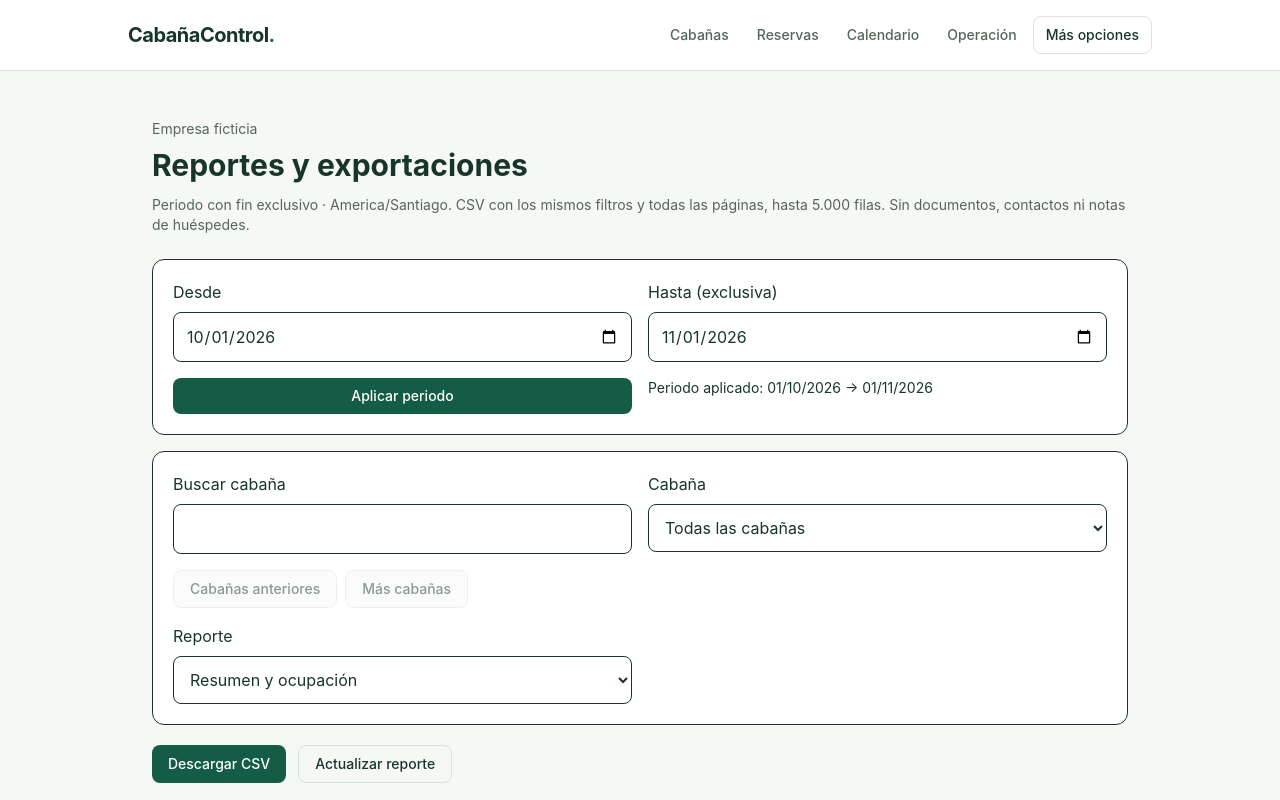
Test: staff consulta canceladas y cambia de filtro conservando el periodo aplicado
Expected: the heading "Reportes y exportaciones" is shown, [152,147,528,183]
Select "Reservas por fecha de entrada" in the dropdown labelled "Reporte". click: (402, 680)
box: [173,656,632,704]
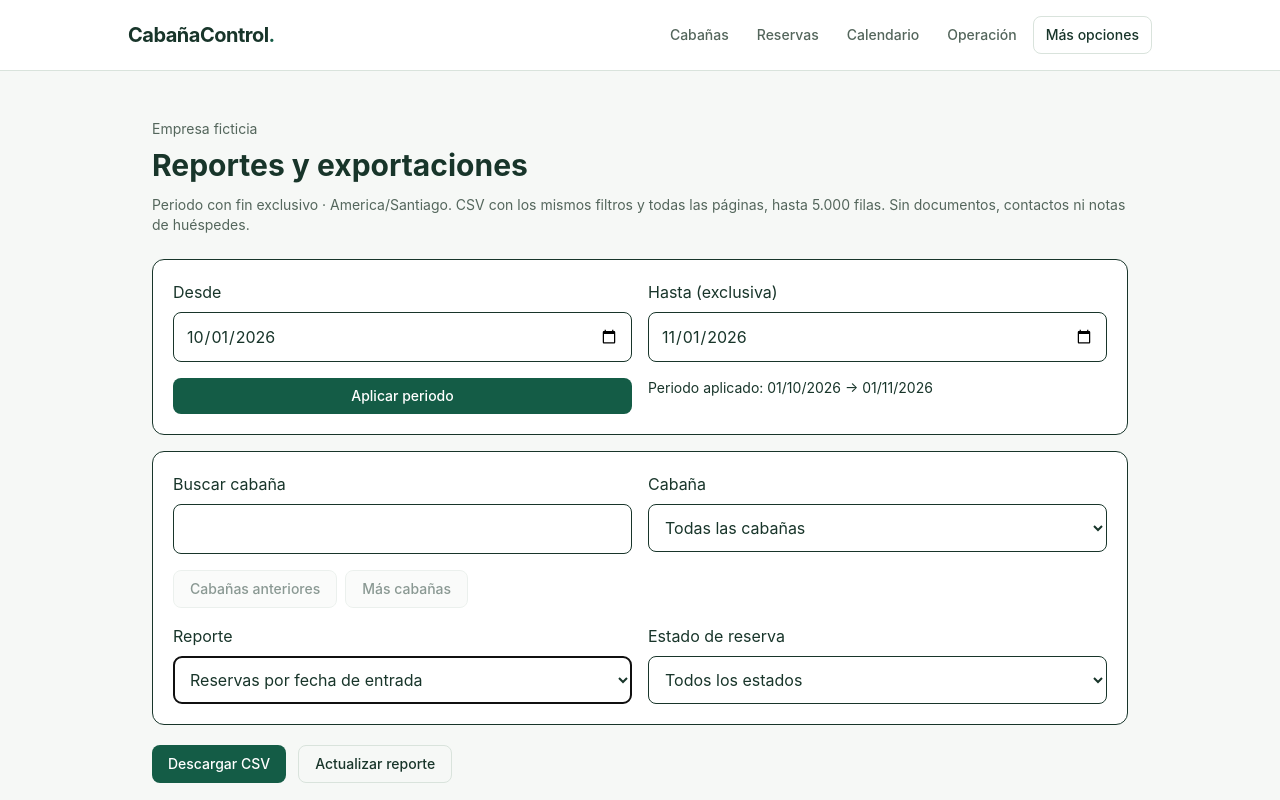
Select "Cancelada" in the dropdown labelled "Estado de reserva". click: (878, 680)
box: [648,656,1107,704]
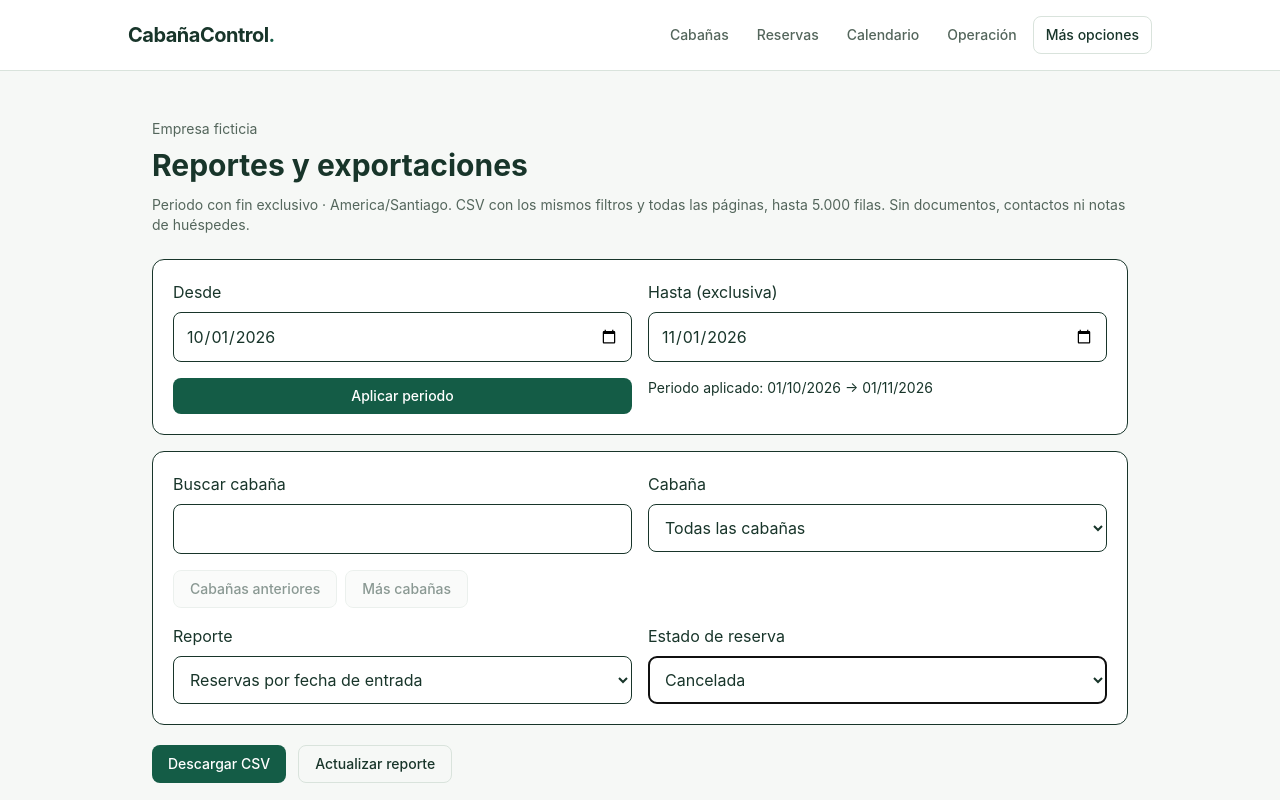
Expected: the button "Descargar CSV" is enabled, [152,745,286,783]
Select "Cobros por fecha de pago" in the dropdown labelled "Reporte". click: (402, 680)
box: [173,656,632,704]
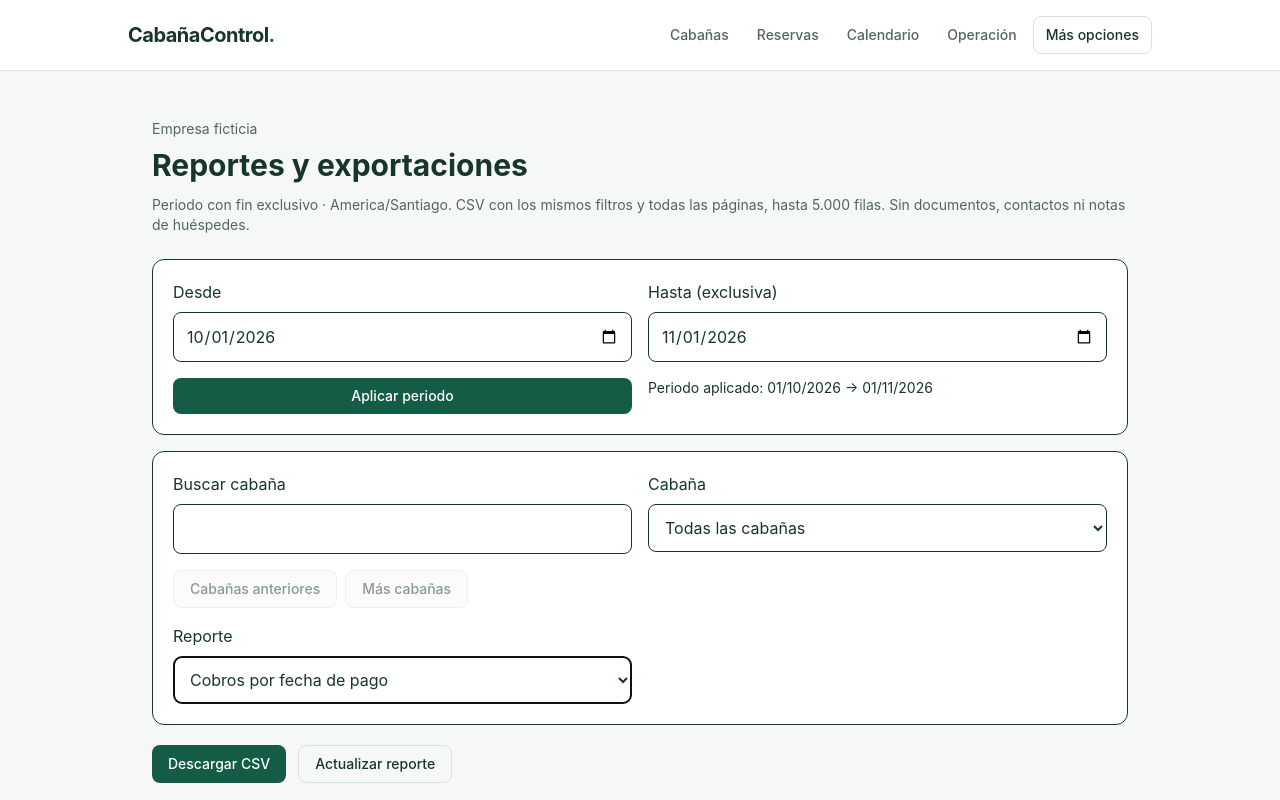
Now the label labelled "Estado de reserva" is gone
